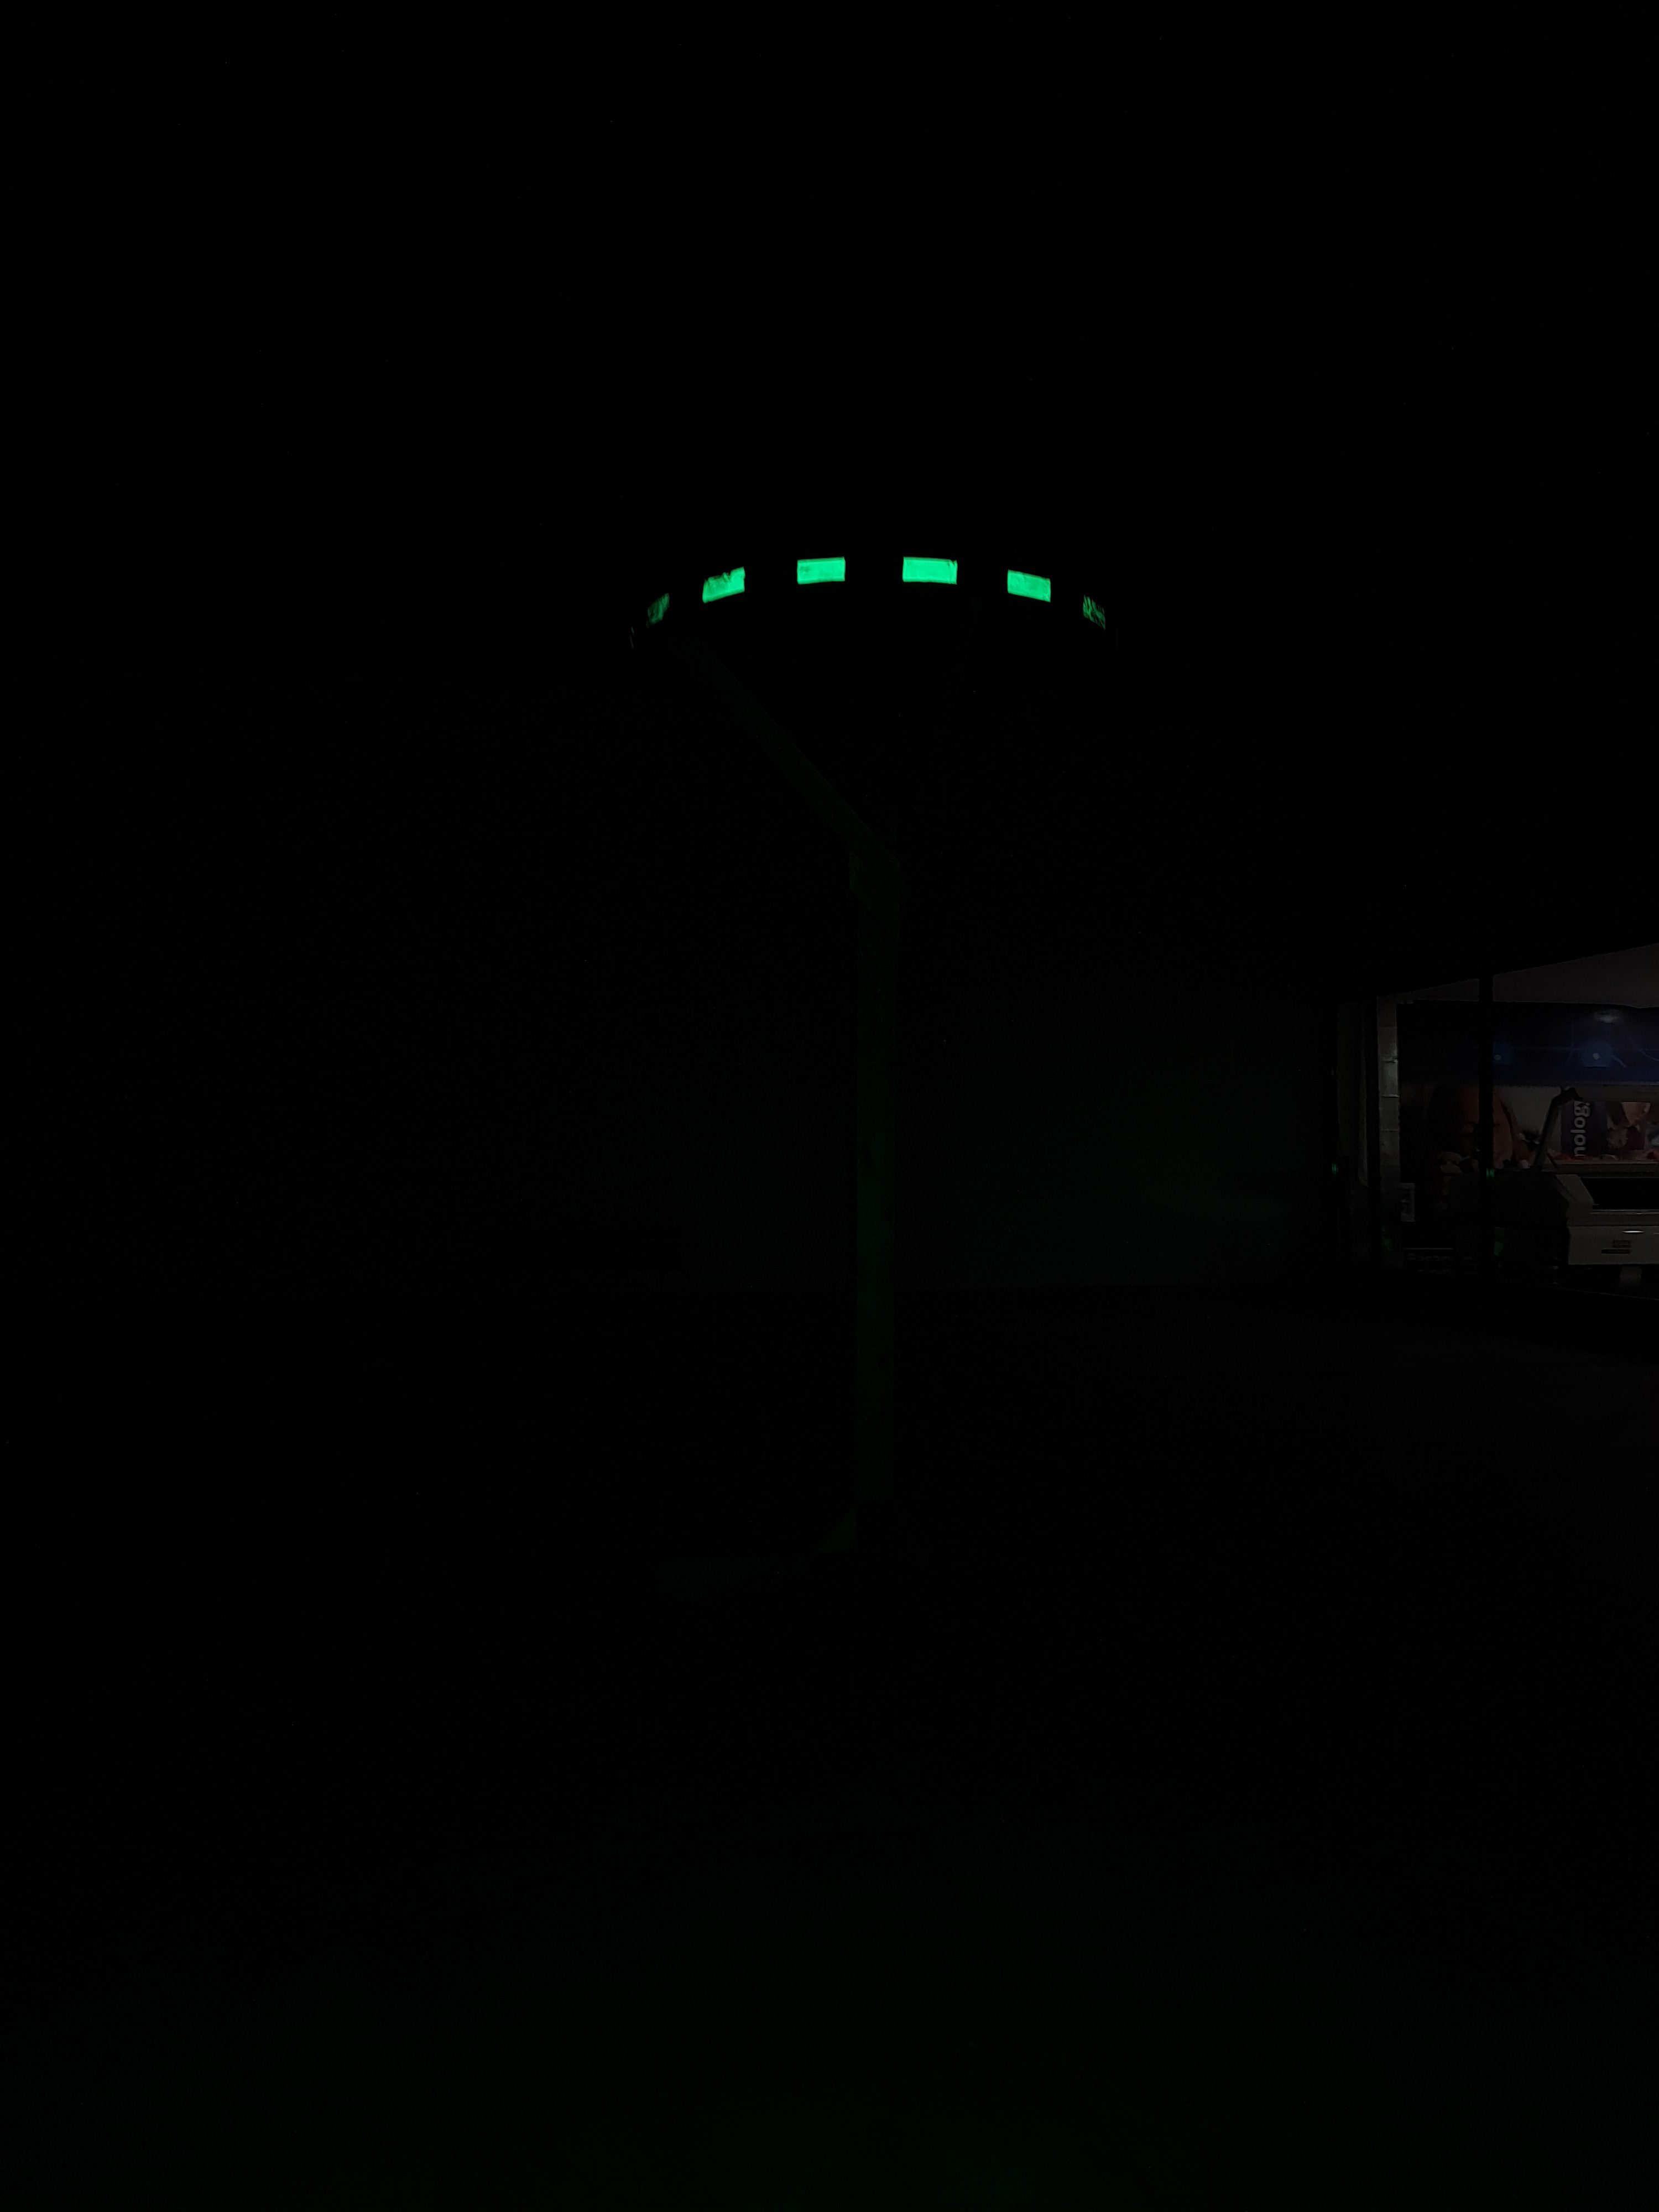hoop: (601, 549, 1136, 657)
